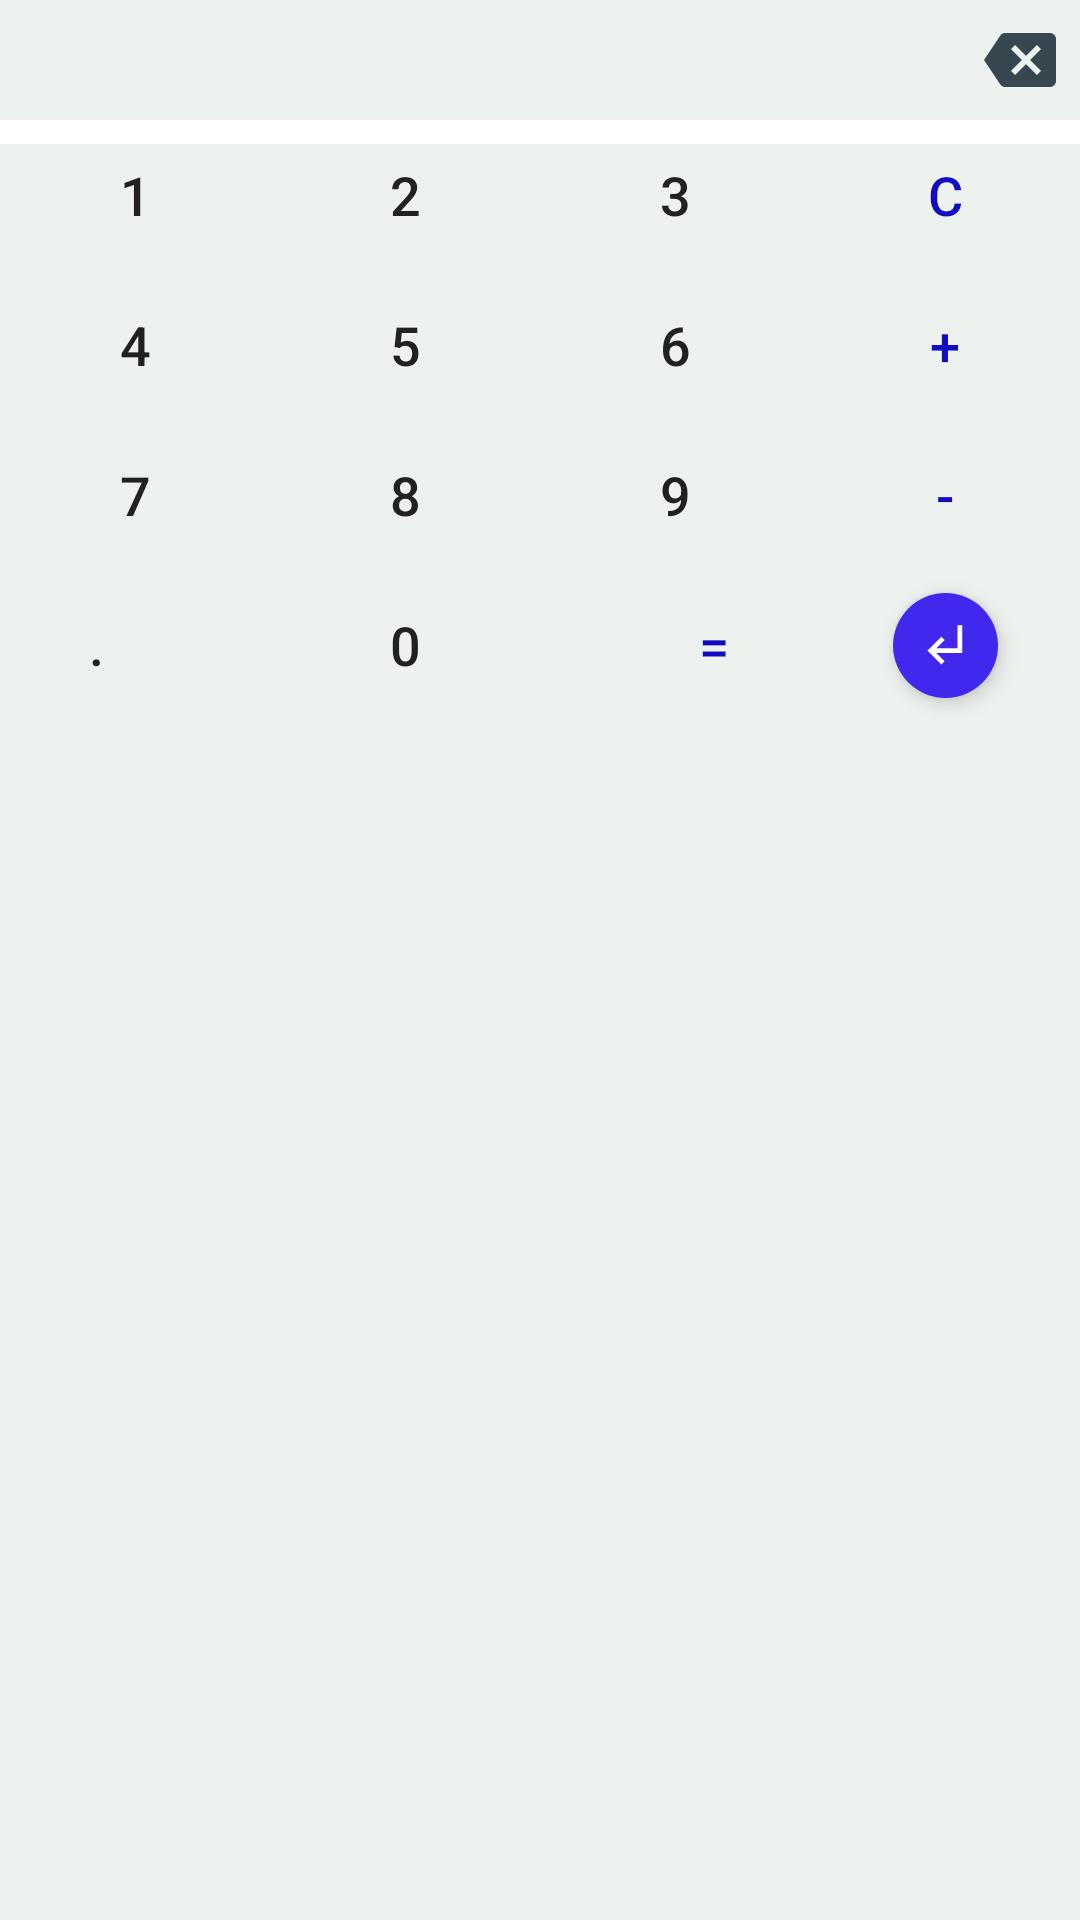

Named icons in this screenshot (1080w x 1920h) and their centers, point (x, y):
backspace: point (1020, 60)
subdirectory arrow left: point (945, 645)
